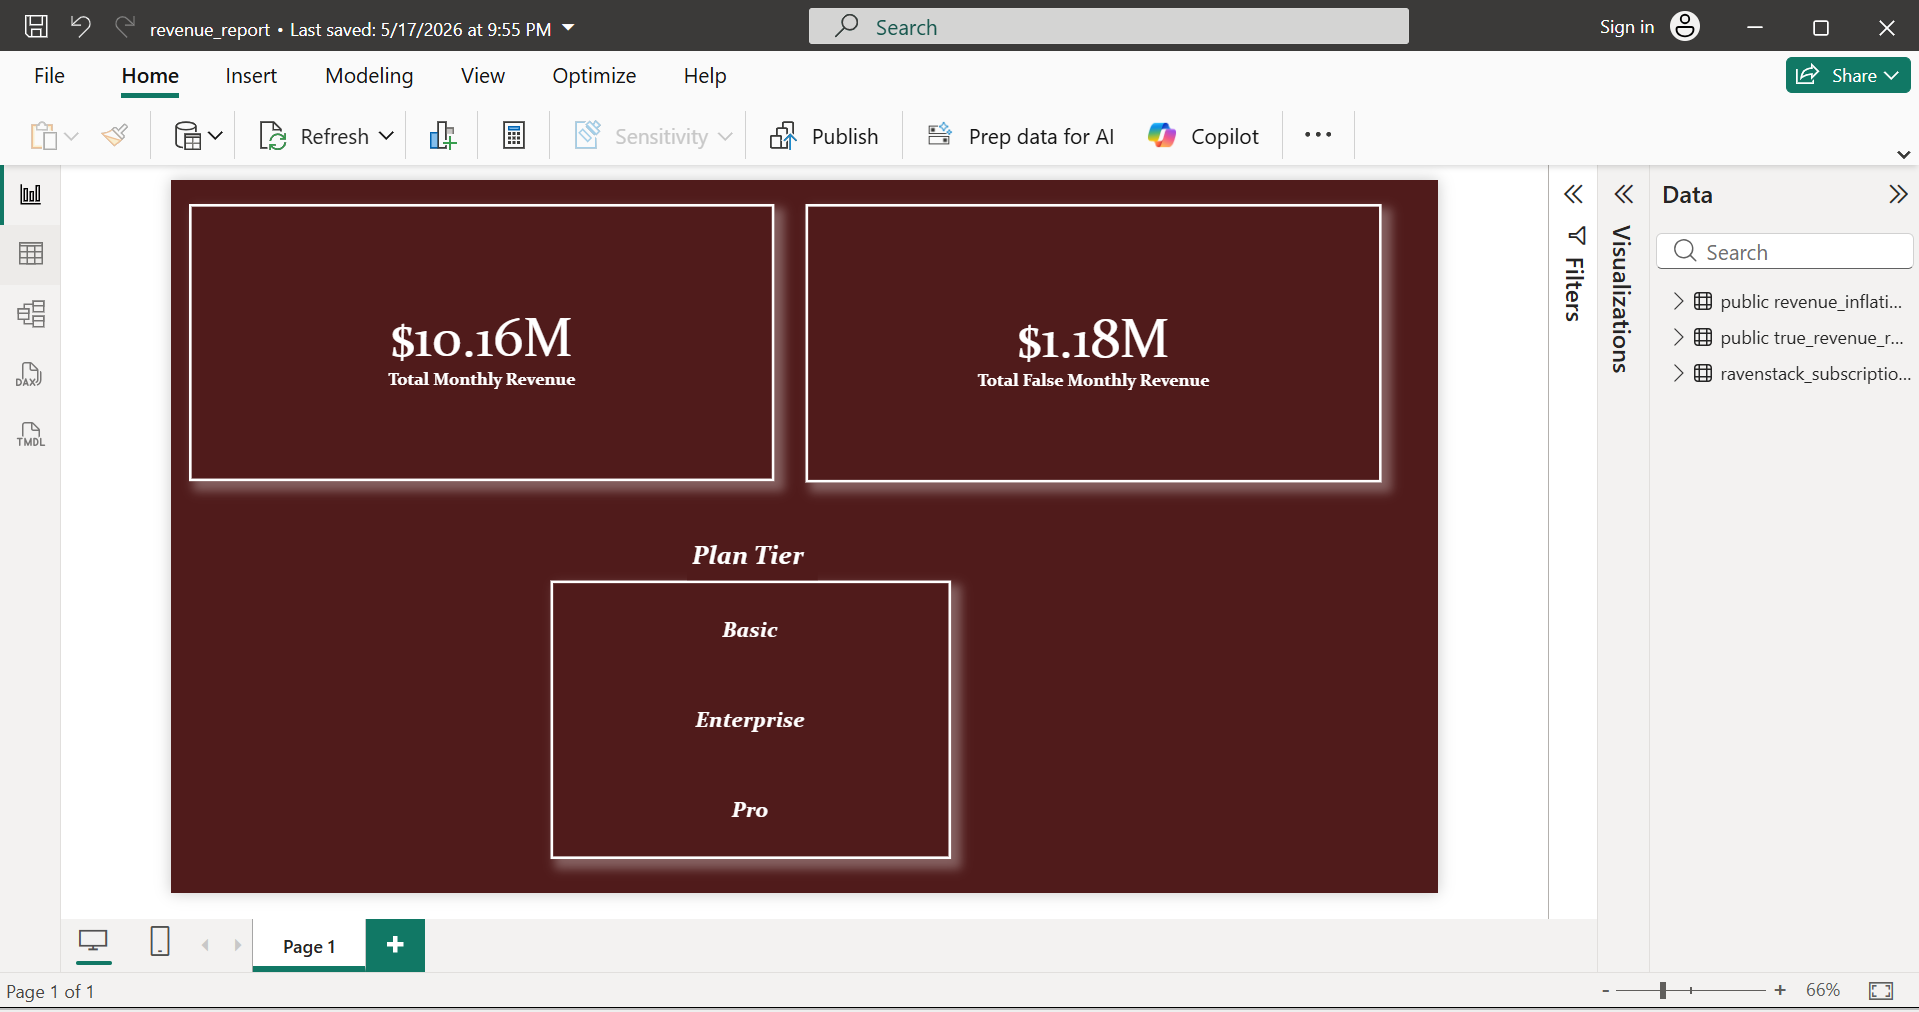

Layout of this report page (visuals, bound fields, positions):
{"tool":"powerbi","page":{"name":"Page 1","canvas":[1280,720],"ordinal":0},"visuals":[{"type":"card","fields":{"Values":["public true_revenue_report.Total Monthly Revenue"]},"box":[18.9,24.6,591.5,279.7],"z":0},{"type":"card","fields":{"Values":["public revenue_inflation_audit.Total False Monthly Revenue"]},"box":[640.6,24.6,582.1,281.6],"z":1},{"type":"advancedSlicerVisual","title":"PLAN TIER","fields":{"Values":["ravenstack_subscriptions.plan_tier"]},"box":[383.6,404.4,404.4,281.6],"z":2},{"type":"textbox","box":[520.8,357.6,132.1,46.6],"z":3}]}

Visuals, with their boxes on the page's 1280x720 design canvas (x1, y1, x2, y2). These are canvas units, not pixel positions in the 1919x1012 screenshot, which may show the page scaled, cropped or inside an application window:
card - public true_revenue_report.Total Monthly Revenue: (x1=19, y1=25, x2=610, y2=304)
card - public revenue_inflation_audit.Total False Monthly Revenue: (x1=641, y1=25, x2=1223, y2=306)
"PLAN TIER" advancedSlicerVisual: (x1=384, y1=404, x2=788, y2=686)
textbox: (x1=521, y1=358, x2=653, y2=404)
